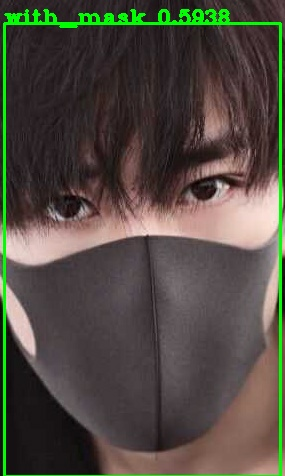with_mask: (3, 10, 285, 476)
